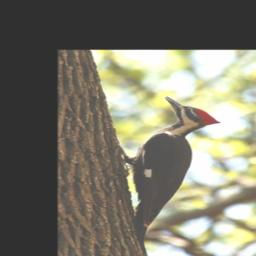Woodpecker: (106, 96, 221, 256)
